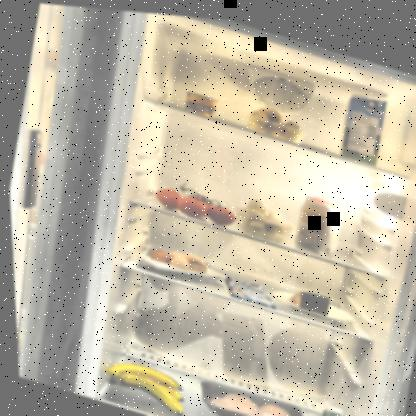banana: (95, 350, 192, 415)
cheese: (285, 280, 329, 312)
chicken: (188, 372, 312, 415)
chocolate: (218, 271, 278, 306)
corn: (180, 85, 220, 117)
eggs: (144, 239, 210, 278)
heavy_cream: (304, 394, 348, 415)
milk: (332, 78, 392, 164)
mushrooms: (227, 186, 296, 236)
potato: (241, 95, 309, 140)
tomato: (148, 166, 240, 225)
